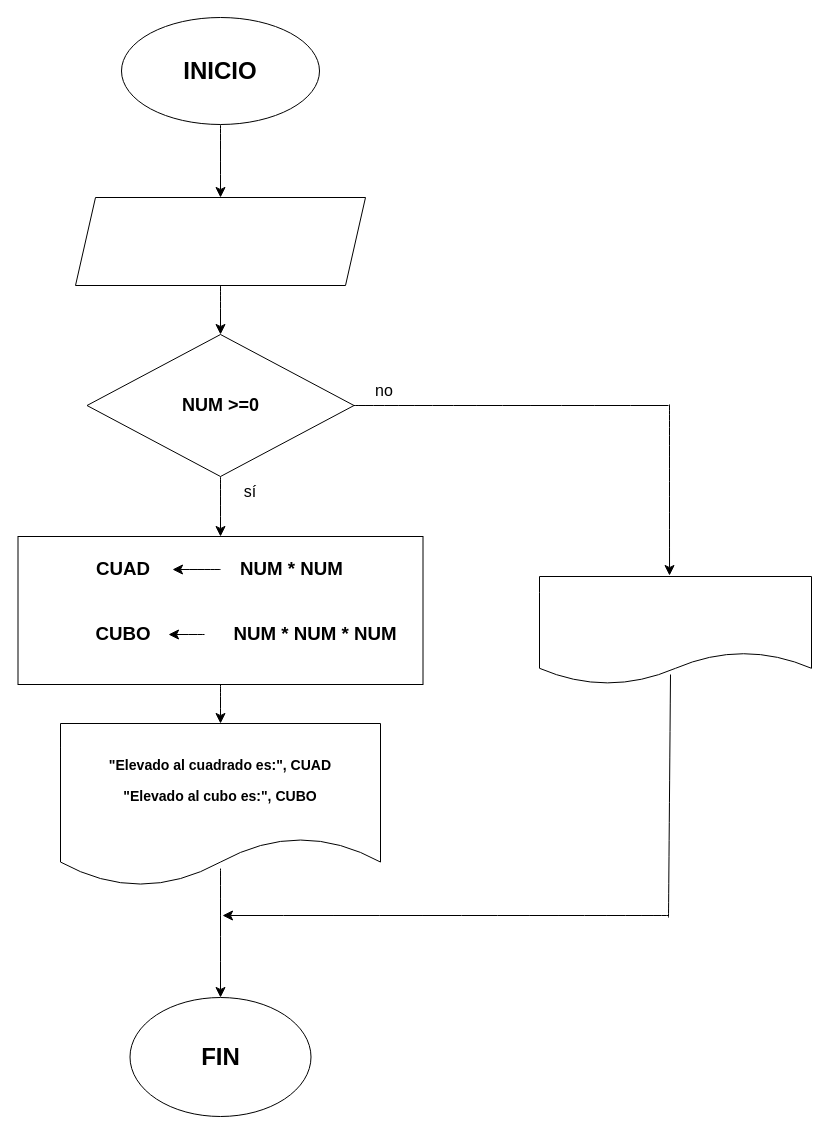
This 829x1134 diagram has some shape labels left out. The shapes that lost their labels are listed below. From the top down, each one's centre as x and y in pixels, then its label:
[220,241]: NUM
[675,630]: "El número no es positivo."
